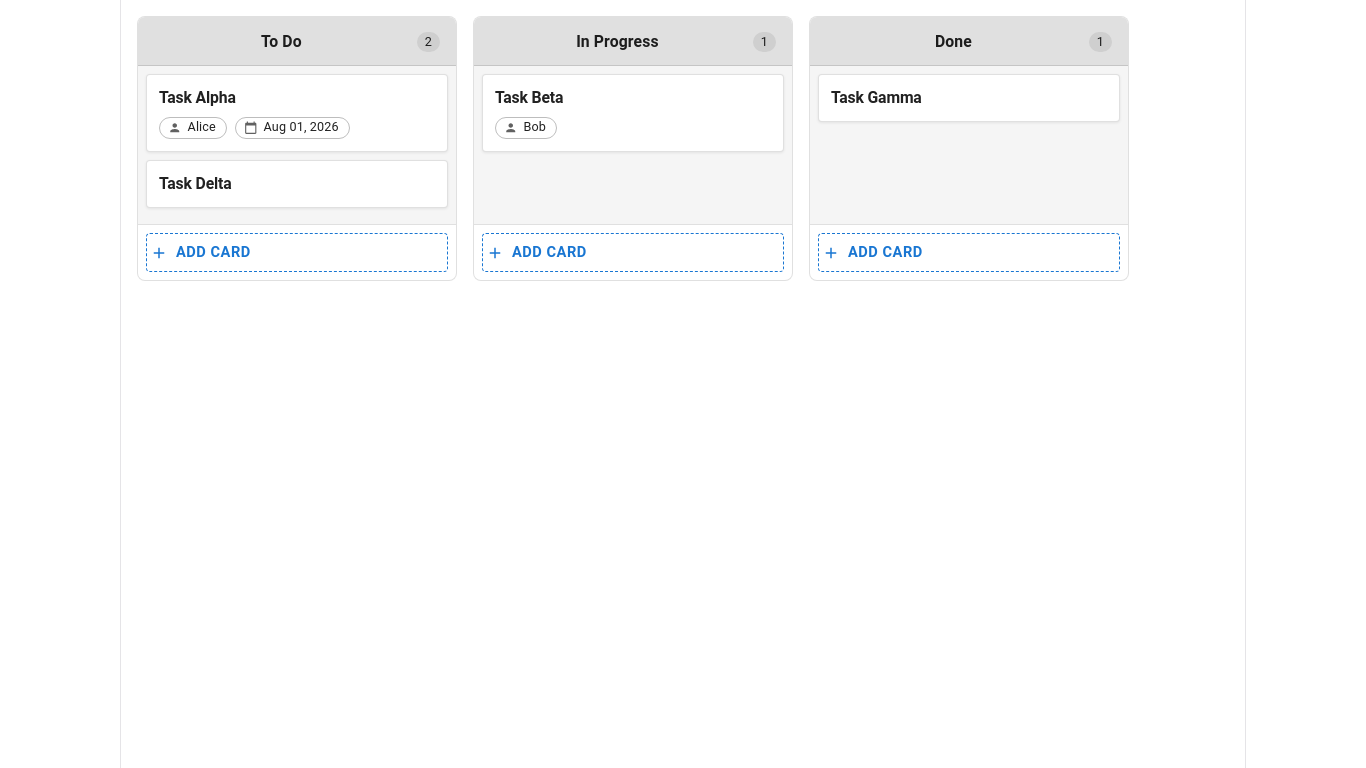
Test case: KanbanBoard › opens Add dialog when '+ Add card' is clicked
This screenshot has width=1366, height=768.
Click the button "Add card" below "To Do": (213, 252) [146,233,448,272]
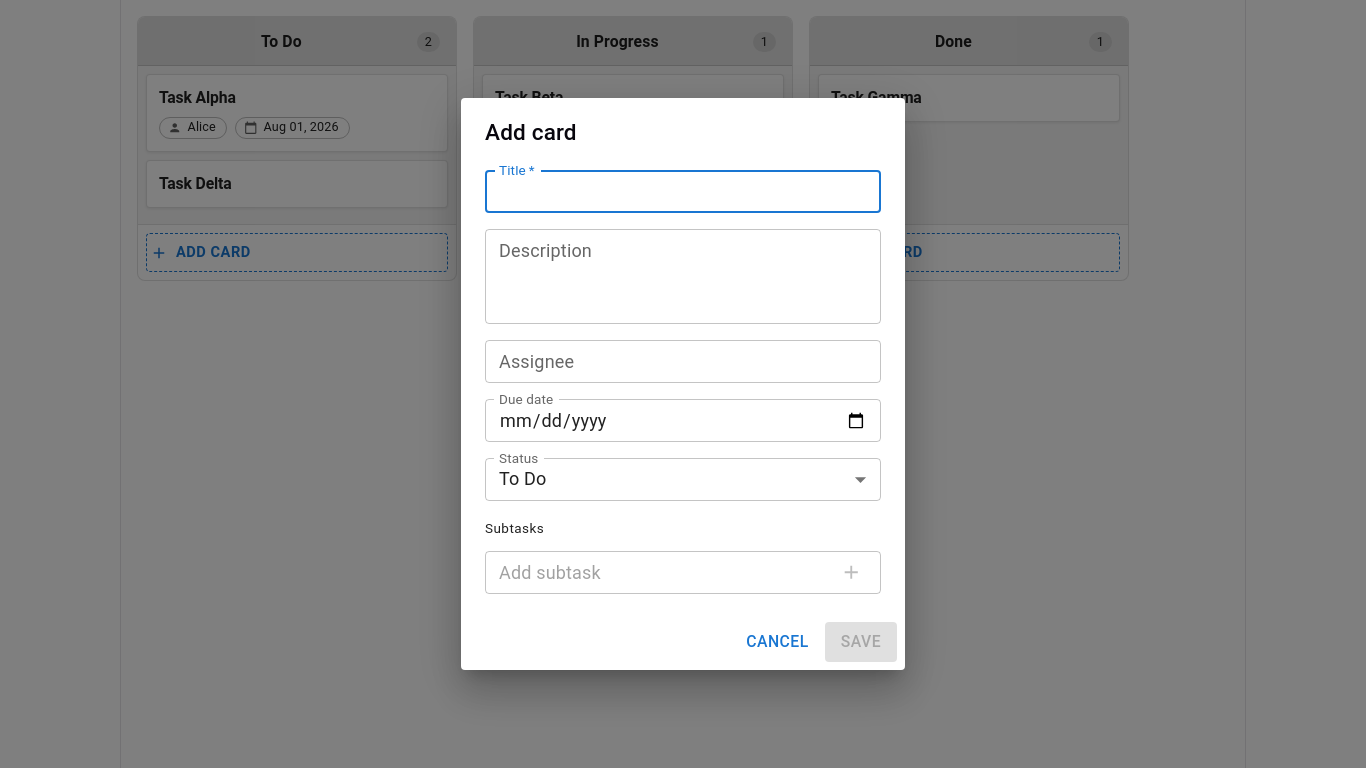
Expected: the dialog is shown, [461,98,905,670]
Expected: the heading "Add card" is shown, [485,119,577,145]
